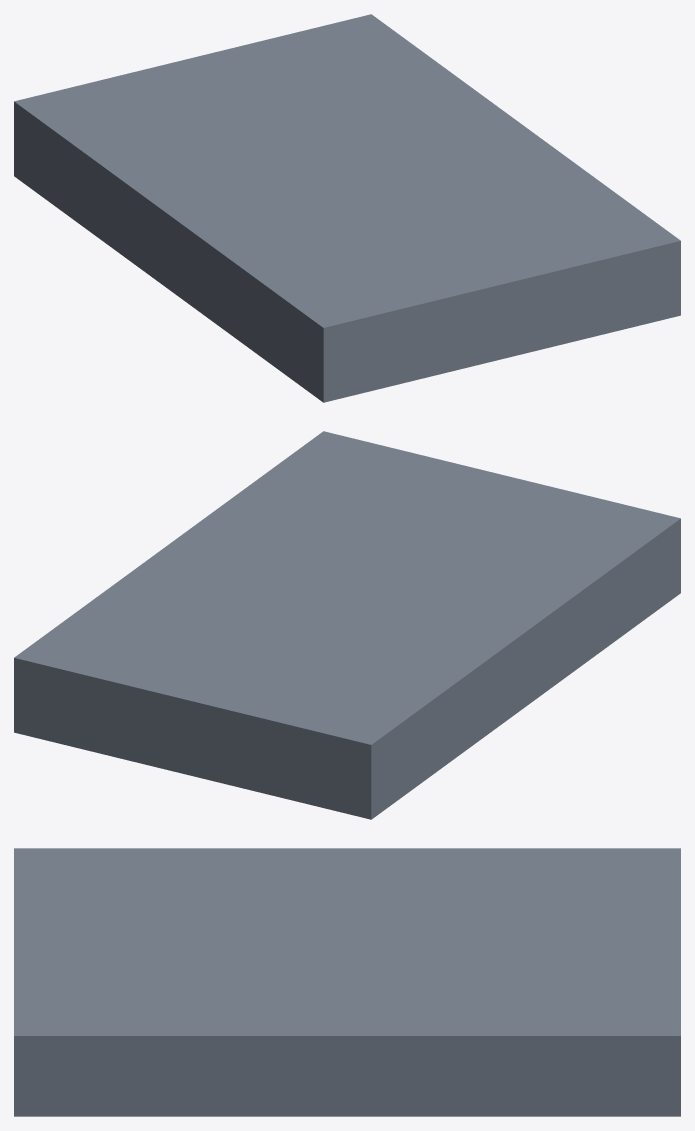
The model's file is breaker_panel.glb.
3 renders of one model, top to bottom at view 1: azimuth 30°, elevation 25°; view 2: azimuth 150°, elevation 25°; view 3: azimuth 270°, elevation 25°, orthographic. The views are drawn at different scales.
Parts seen in each view (by area): view 1: panel_0; view 2: panel_0; view 3: panel_0.
Part boxes in pixels (<box>): panel_0: <box>14,14,680,402</box>; panel_0: <box>14,431,680,819</box>; panel_0: <box>14,848,680,1116</box>.
Bounding box in the file's own units: 0.6 × 0.14 × 0.9.
